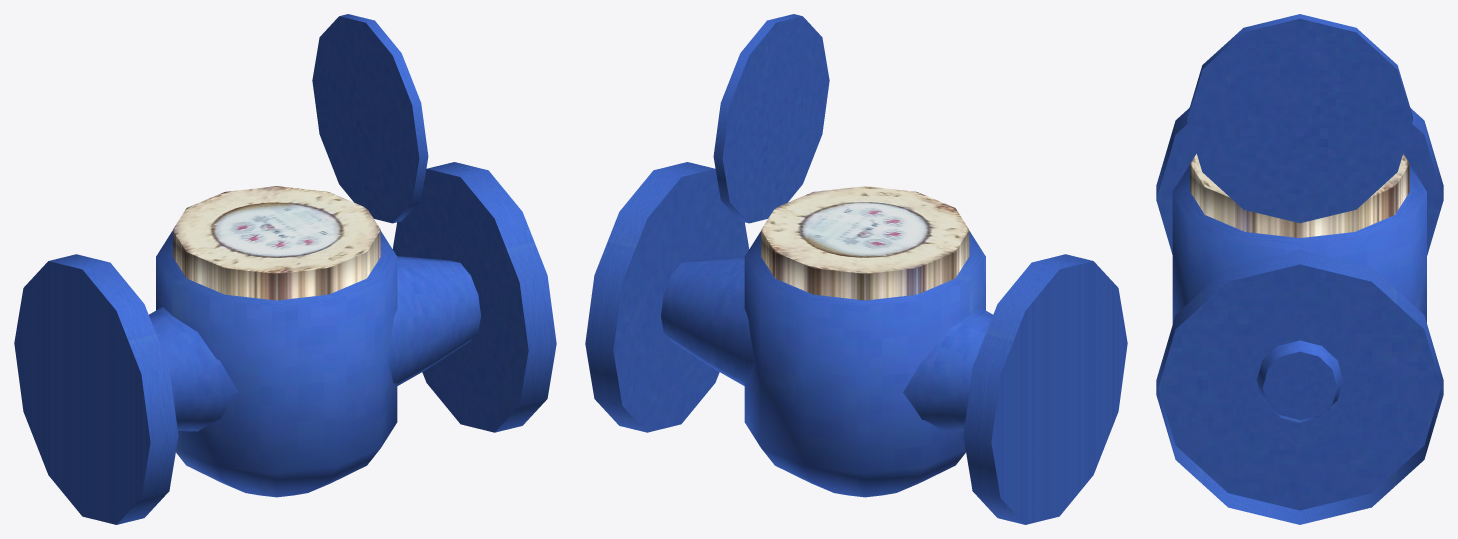
3 views of the same model, side by side, from view 1: azimuth 30°, elevation 25°; view 2: azimuth 150°, elevation 25°; view 3: azimuth 270°, elevation 25° (orthographic). The views are drawn at different scales.
Parts seen in each view (by area): view 1: 535030; view 2: 535030; view 3: 535030.
Part boxes in pixels (bbox=[...]): 535030: bbox=[14, 14, 556, 524]; 535030: bbox=[585, 14, 1127, 524]; 535030: bbox=[1156, 14, 1443, 524].
Bounding box in the file's own units: 0.2698 × 0.2782 × 0.1568.
2 materials, 2 textured.
